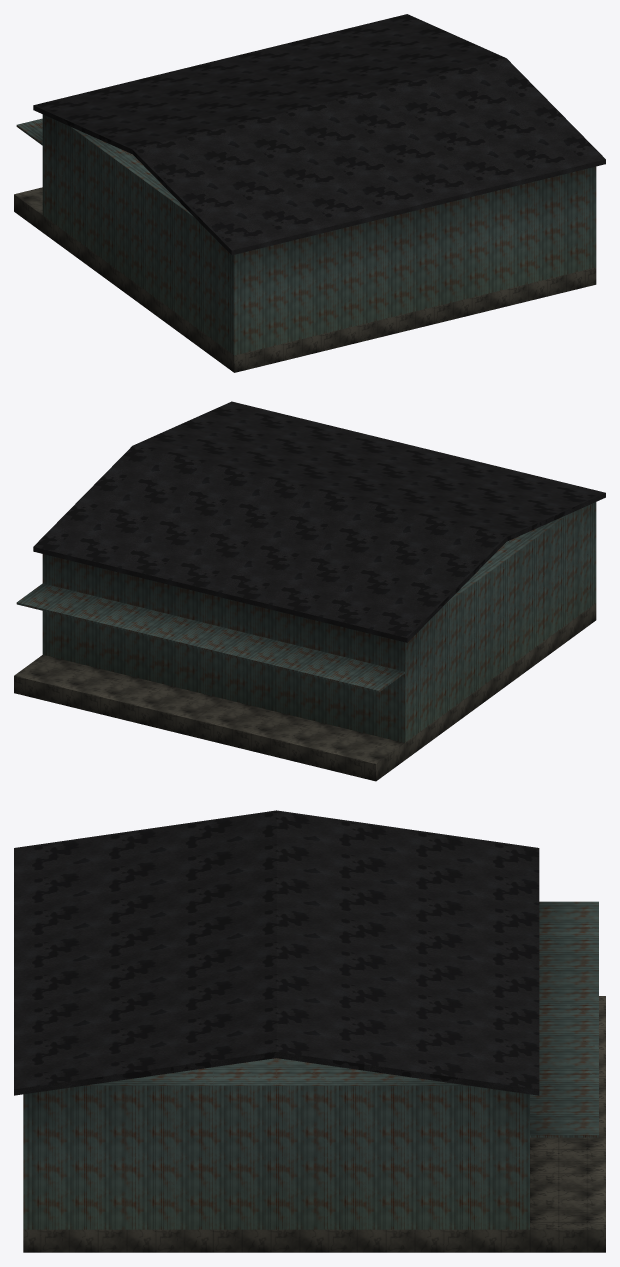
The model's file is freight_depot_lod1.glb.
3 renders of one model, top to bottom at view 1: azimuth 30°, elevation 25°; view 2: azimuth 150°, elevation 25°; view 3: azimuth 270°, elevation 25°, orthographic. The views are drawn at different scales.
Parts seen in each view (by area): view 1: freight_depot_lod1; view 2: freight_depot_lod1; view 3: freight_depot_lod1.
Boxes of the visible parts, box(x1,y1,x2,y2) form: freight_depot_lod1: box(14, 14, 605, 372); freight_depot_lod1: box(14, 401, 605, 781); freight_depot_lod1: box(14, 810, 605, 1252).
Size of the model in its own units: 24.8 by 9.8 by 25.7.
